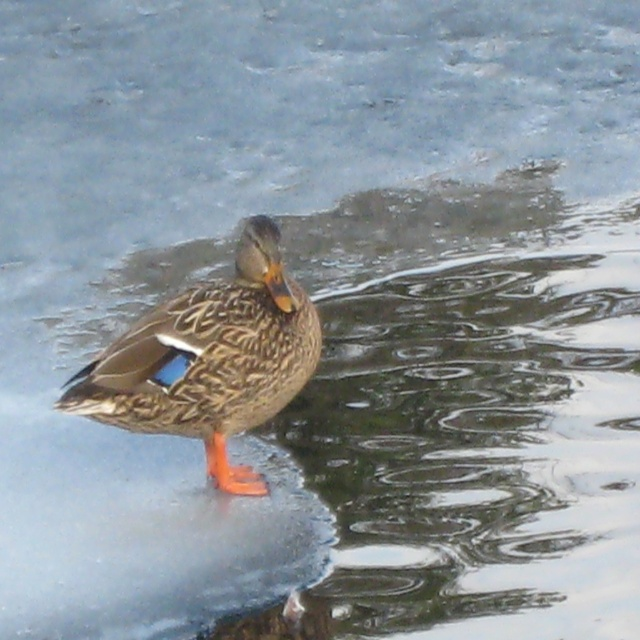Duck: (52, 215, 322, 496)
